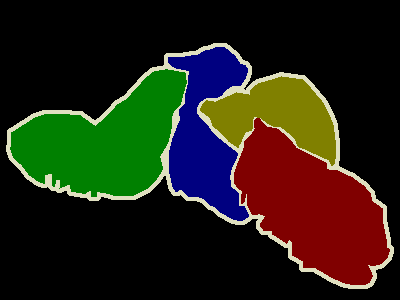sheep: (232, 117, 393, 286), (6, 71, 188, 199), (167, 46, 251, 223), (198, 75, 340, 170)
